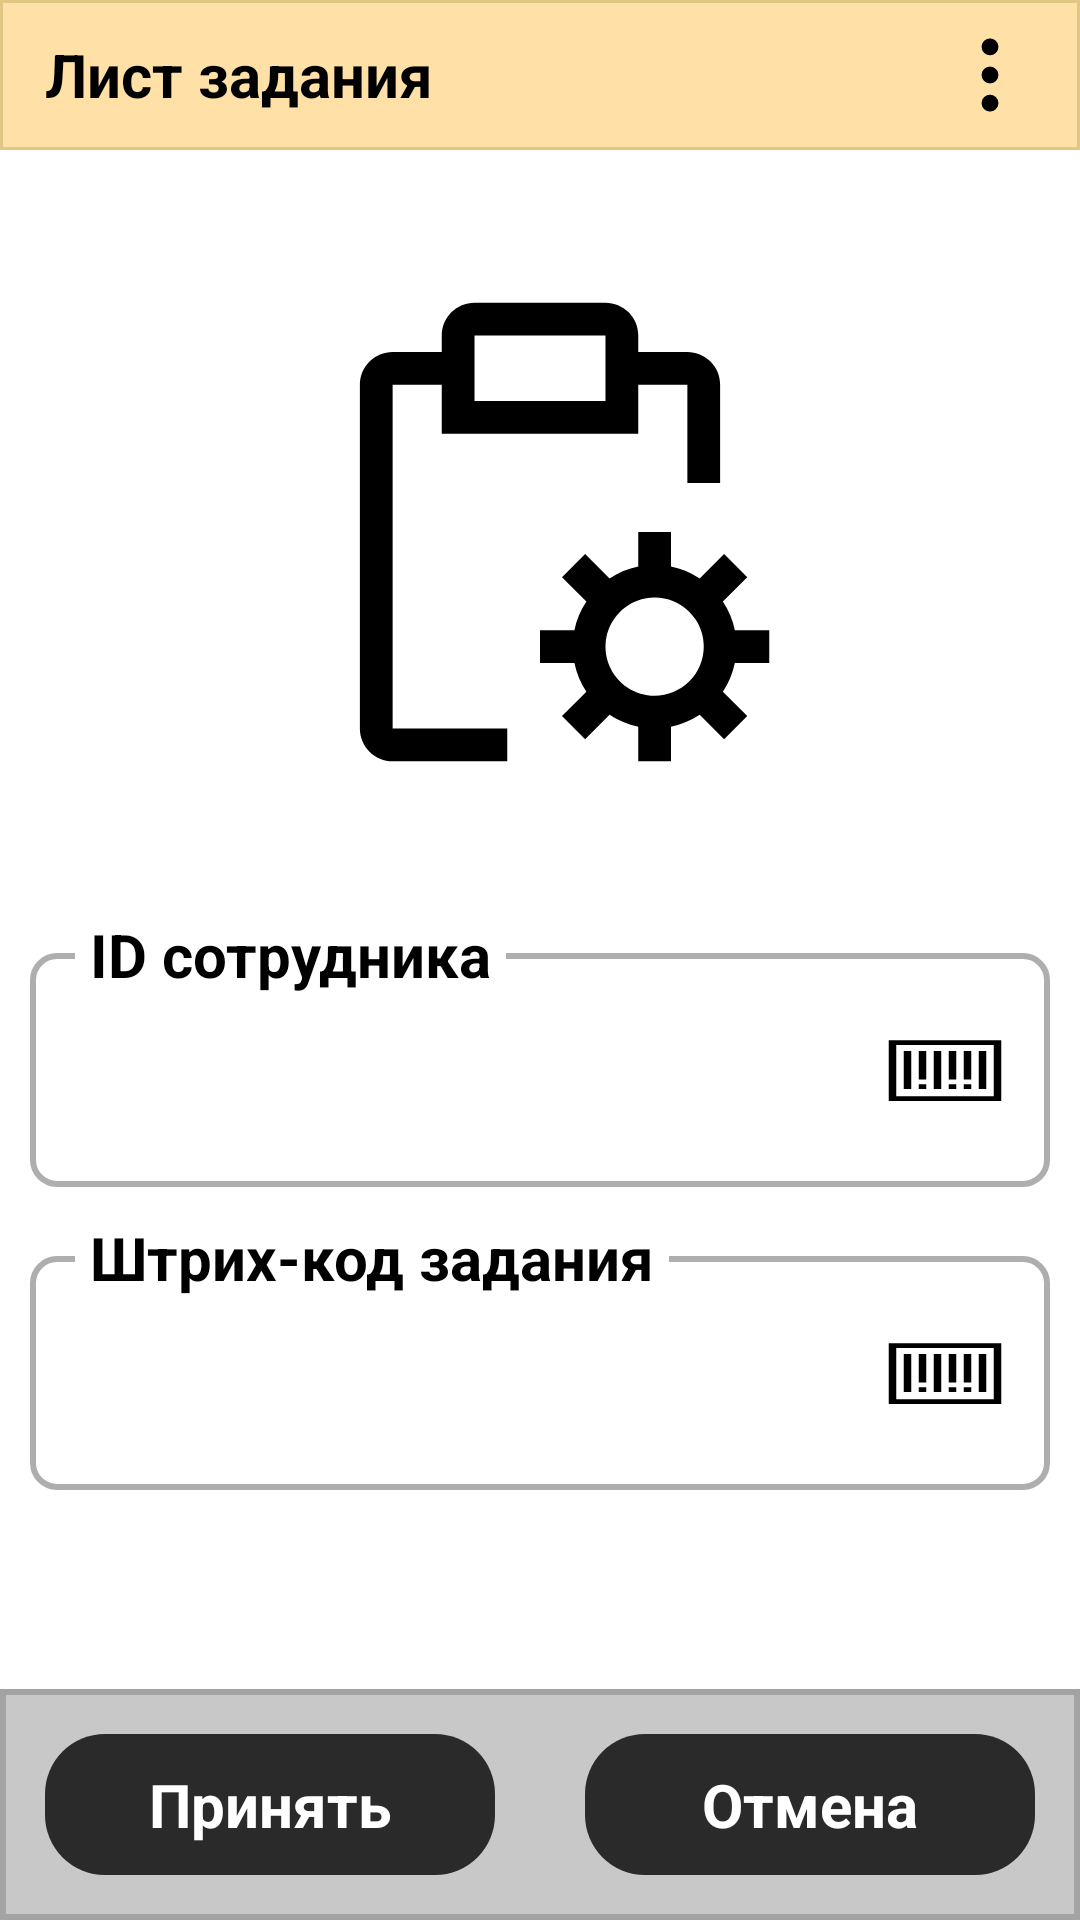

Where to tap for icons on this 1080×1920 app screen, as [x,y]:
barcode: [945,1070], [945,1373]
